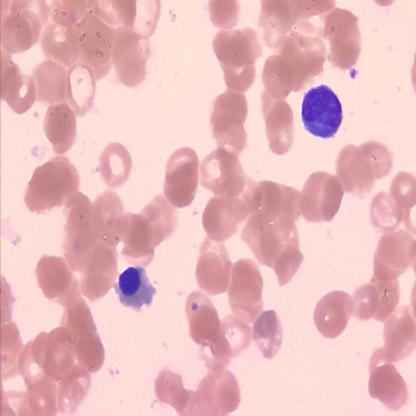NRC: (300, 84, 345, 141), (113, 265, 156, 310)
